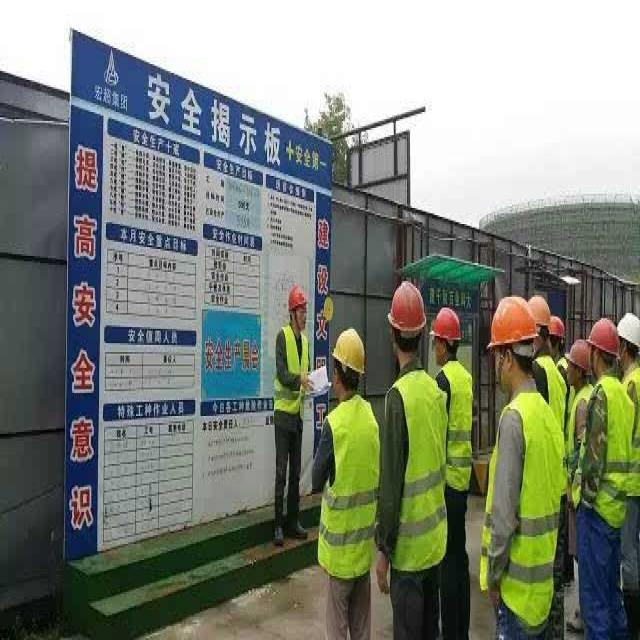Reflective-Jacket: (491, 391, 562, 624), (387, 370, 446, 572), (317, 396, 383, 576), (591, 377, 639, 519), (442, 361, 475, 492), (272, 325, 310, 416)
Safety-Helmet: (489, 295, 537, 349), (386, 279, 426, 333), (331, 327, 367, 373), (589, 314, 620, 356), (432, 304, 462, 343), (617, 309, 640, 347), (569, 336, 588, 370), (287, 281, 308, 309)
